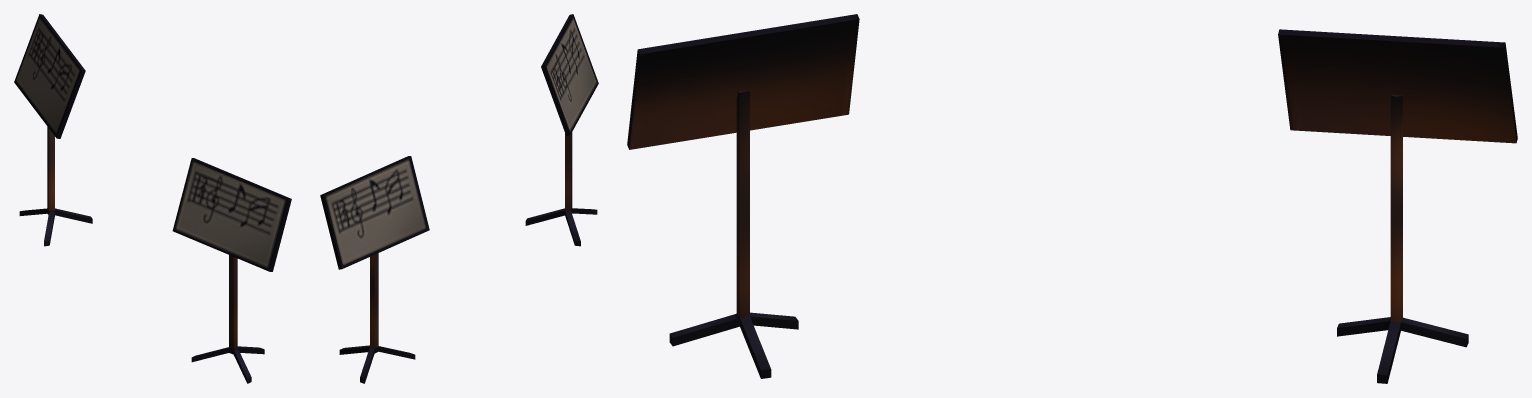
Rendered from Tx_prop_music stand_20.fbx.
3 renders of one model, left to right at view 1: azimuth 30°, elevation 25°; view 2: azimuth 150°, elevation 25°; view 3: azimuth 270°, elevation 25°, orthographic. The views are drawn at different scales.
Visible parts, largest first — view 1: Tx_prop_music_stand_12; view 2: Tx_prop_music_stand_12; view 3: Tx_prop_music_stand_12.
Part boxes in pixels (x1,y1,x2,y2): Tx_prop_music_stand_12: [14, 14, 291, 383]; Tx_prop_music_stand_12: [320, 14, 598, 383]; Tx_prop_music_stand_12: [627, 14, 1517, 383].
Bounding box in the file's own units: 1.61 × 3.93 × 9.71.
Materials: 1 (1 with a texture image).
